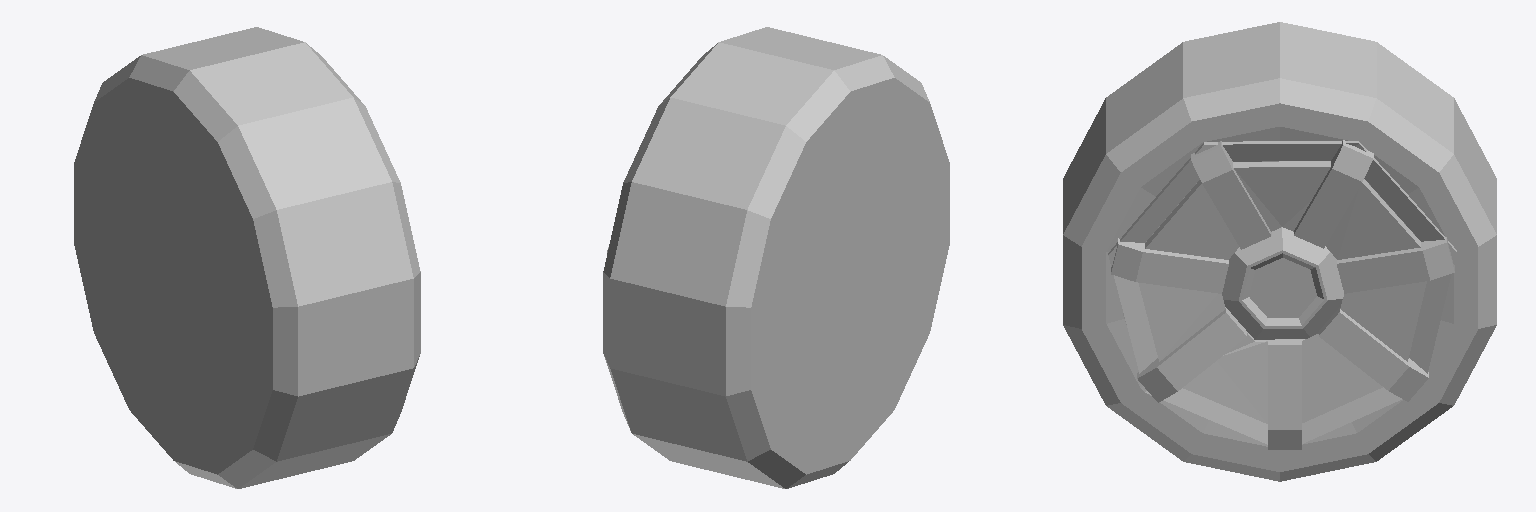
Rendered from cybertruck-wheel.obj.
3 renders of one model, left to right at view 1: azimuth 30°, elevation 25°; view 2: azimuth 150°, elevation 25°; view 3: azimuth 270°, elevation 25°, orthographic.
Visible parts, largest first — view 1: wheel.004; view 2: wheel.004; view 3: wheel.004.
Part boxes in pixels (x1,y1,x2,y2): wheel.004: (74, 27, 420, 488); wheel.004: (603, 27, 949, 488); wheel.004: (1063, 22, 1496, 481).
Size of the model in its own units: 0.404 by 0.9443 by 0.9207.